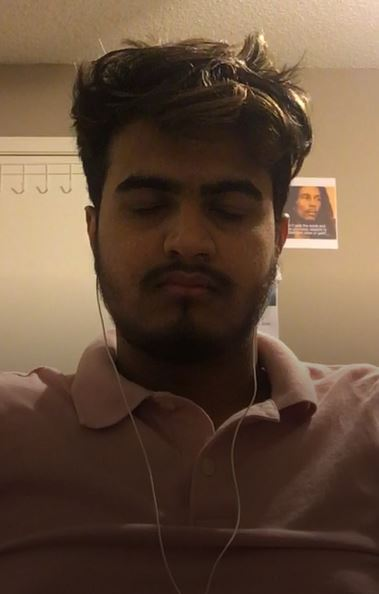Sleeping: (112, 186, 265, 234)
